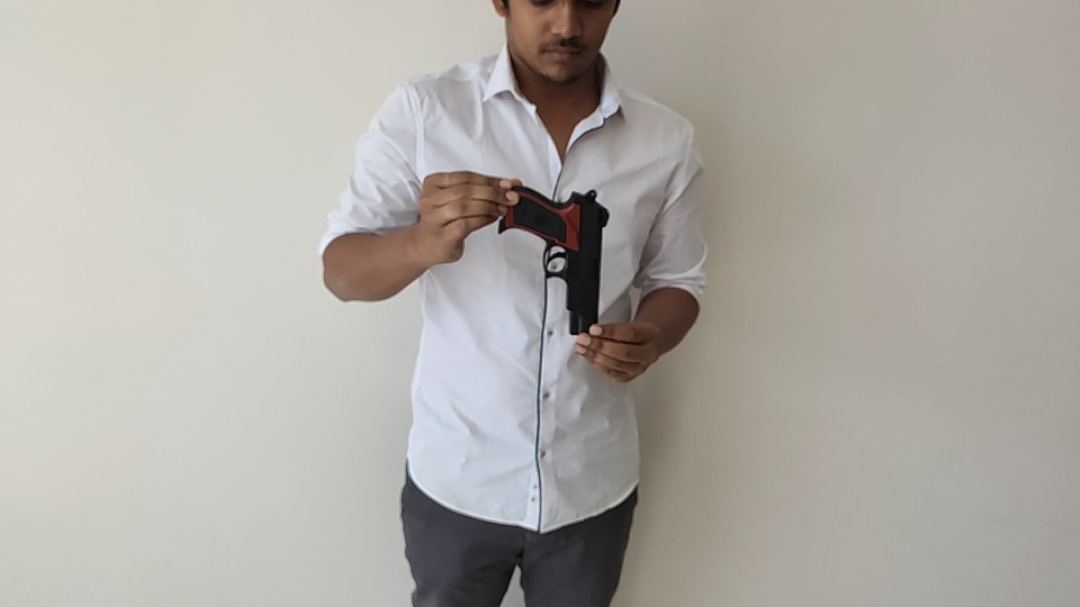gun: (225, 69, 922, 528)
